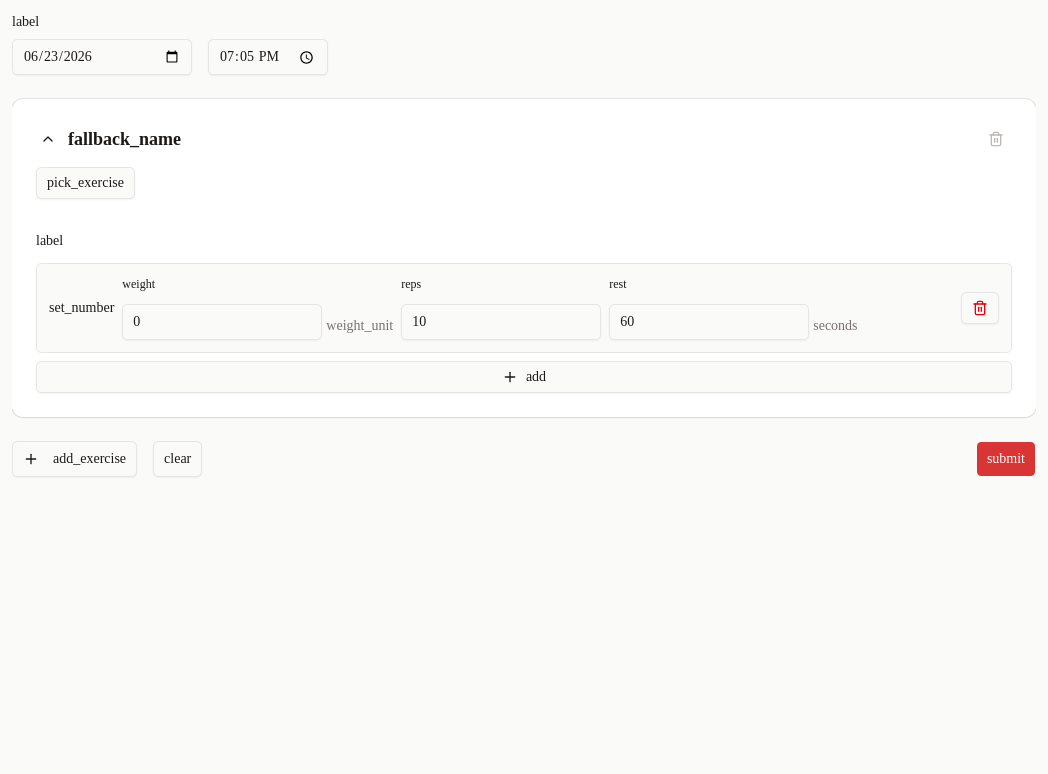
it: WorkoutForm › adds new exercise when add button is clicked
Expected: the text "fallback_name" is shown once, [68, 125, 181, 153]
Step 1. Click the button "add_exercise" → (75, 458), box [12, 440, 137, 476]
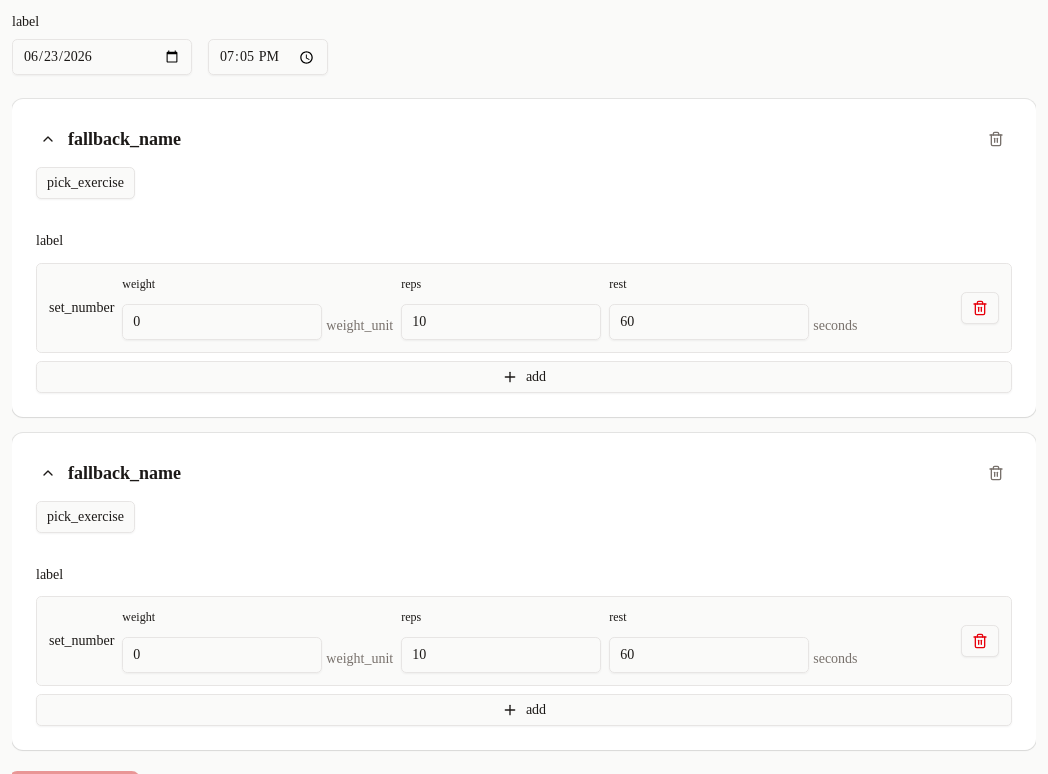
Result: the text "fallback_name" is shown 2 times at [68, 125, 181, 153]; [68, 458, 181, 486]
